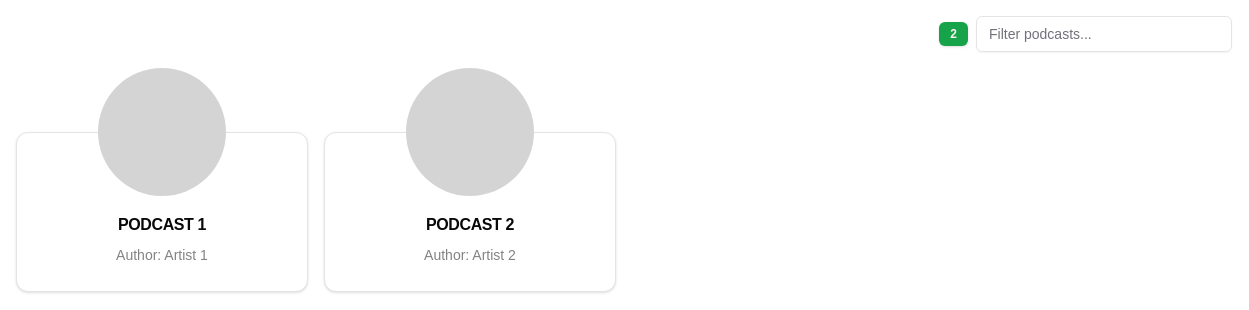
Test: Home › should filter podcasts if search term is provided
Type "podcast 2" into the field with placeholder "Filter podcasts..." at (1104, 34), box [976,16,1232,52]
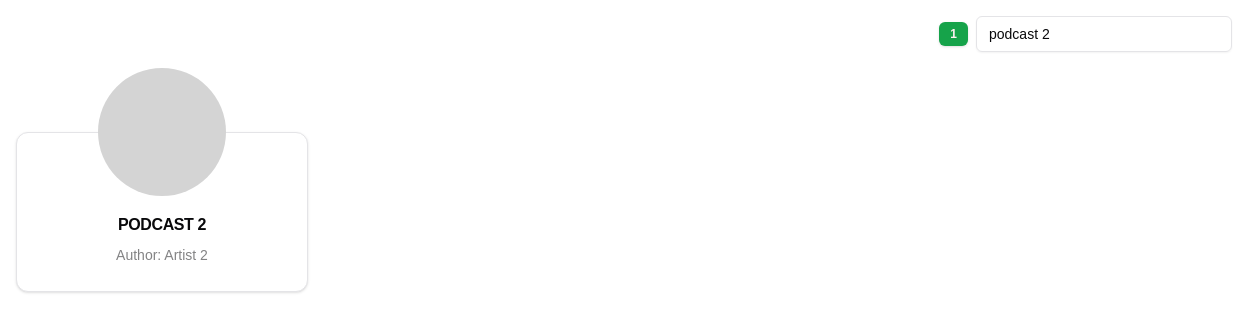
Expected: the heading "PODCAST 2" is shown, [118,216,206,233]
Expected: the heading "PODCAST 1" is gone
